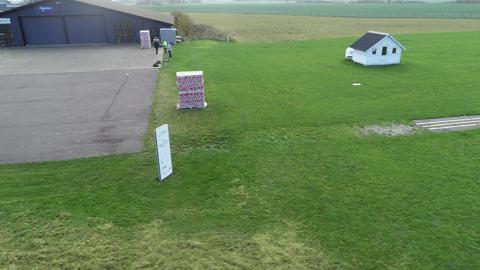RockwoolPallet: (140, 30, 152, 49)
